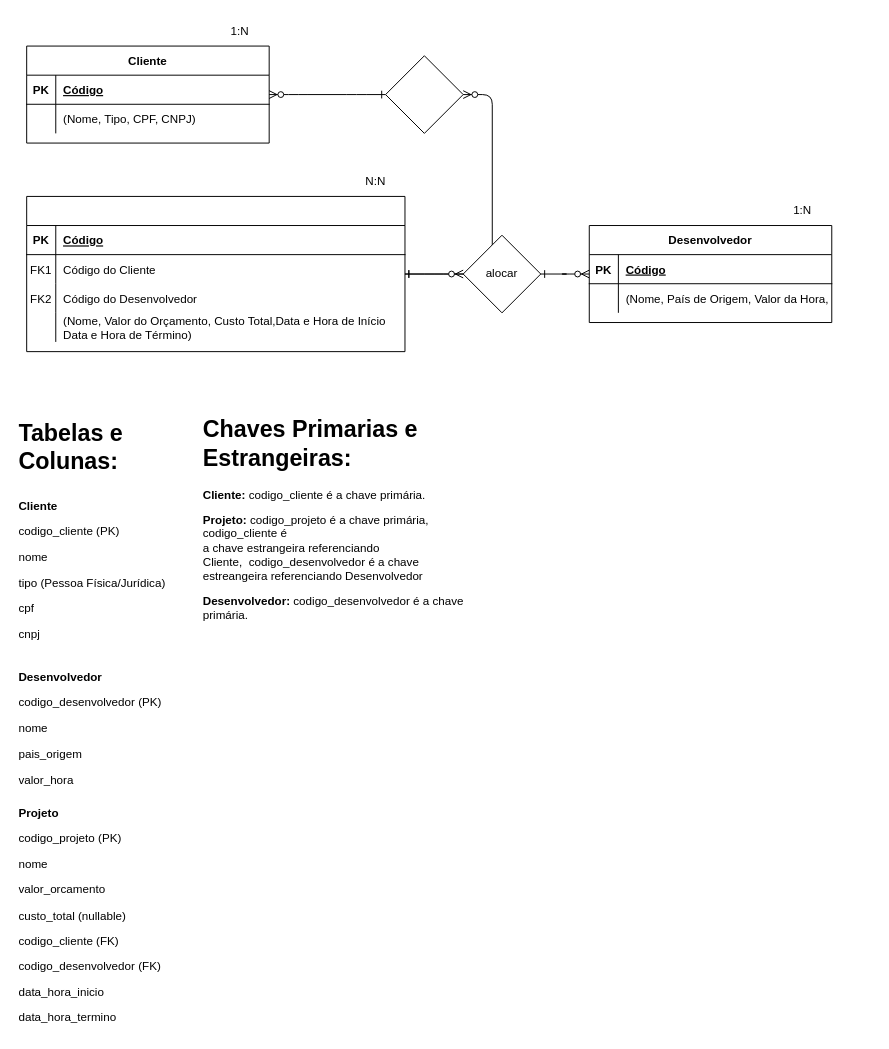
This 889x1049 diagram has some shape labels left out. The box of each missing label's shape, as (x1, y1, x2, y2) in pixels:
Contrata: (385, 55, 463, 133)
Projeto: (26, 195, 405, 352)
